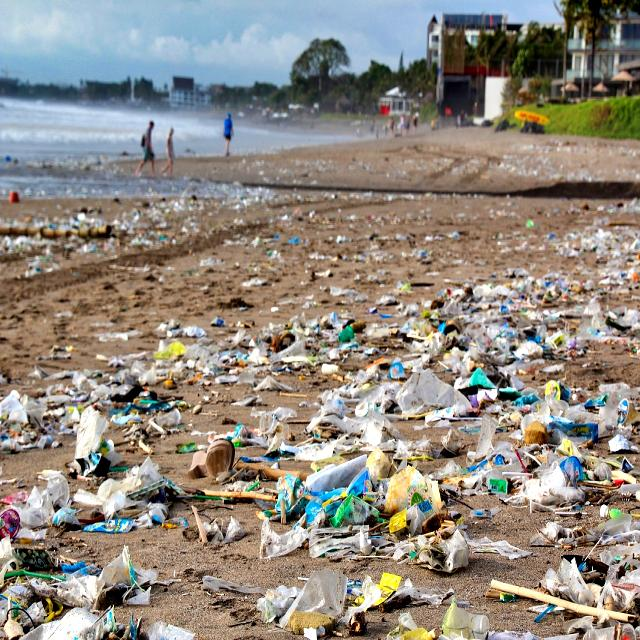Garbage: (0, 174, 640, 640)
Trash: (205, 436, 237, 476)
